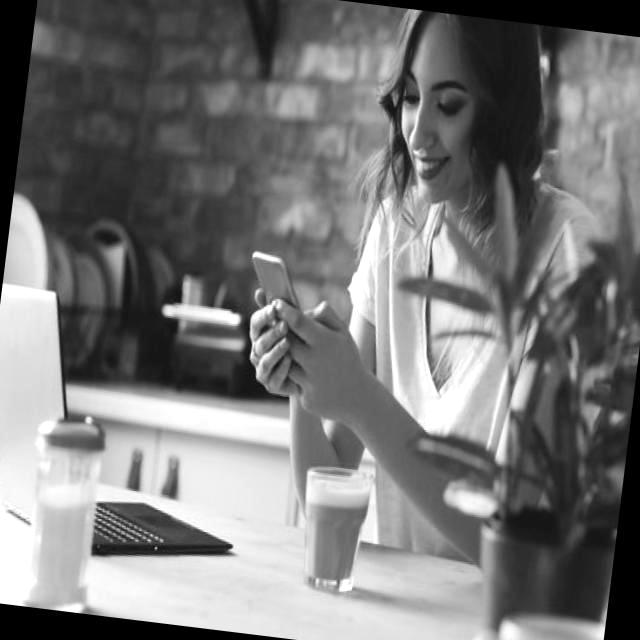phone: (245, 249, 308, 312)
